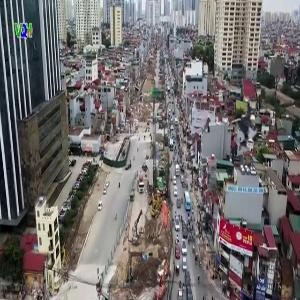drone: (220, 100, 274, 154)
